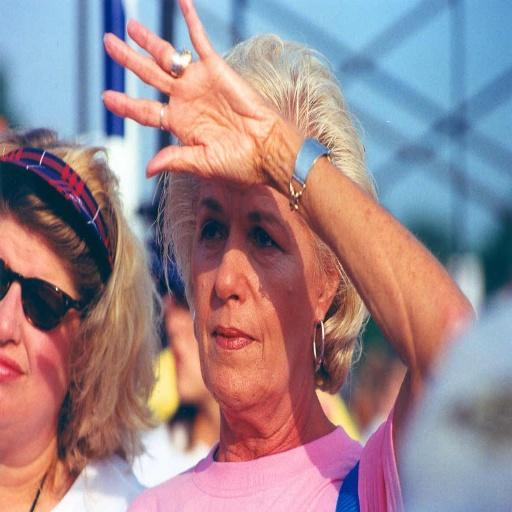hand: (76, 21, 316, 196)
